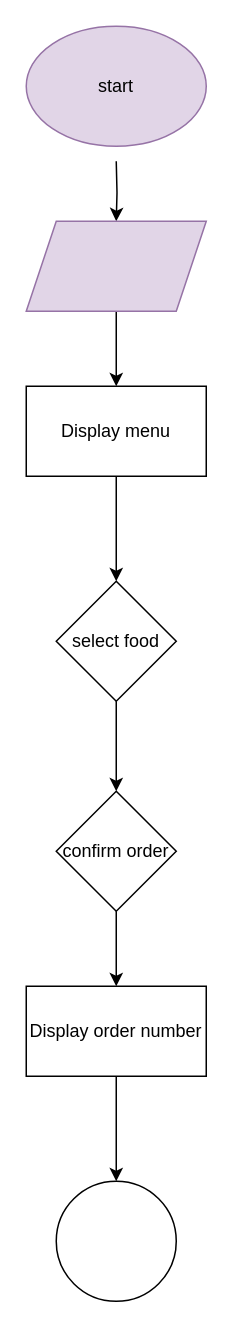
Some shapes in this 233 by 1328 pixel diagram are drawn without their labels. Here are the shapes that lost their labels. From the top down, the box of each, then its label:
(25, 220, 206, 311): select menu
(55, 1180, 176, 1301): end
